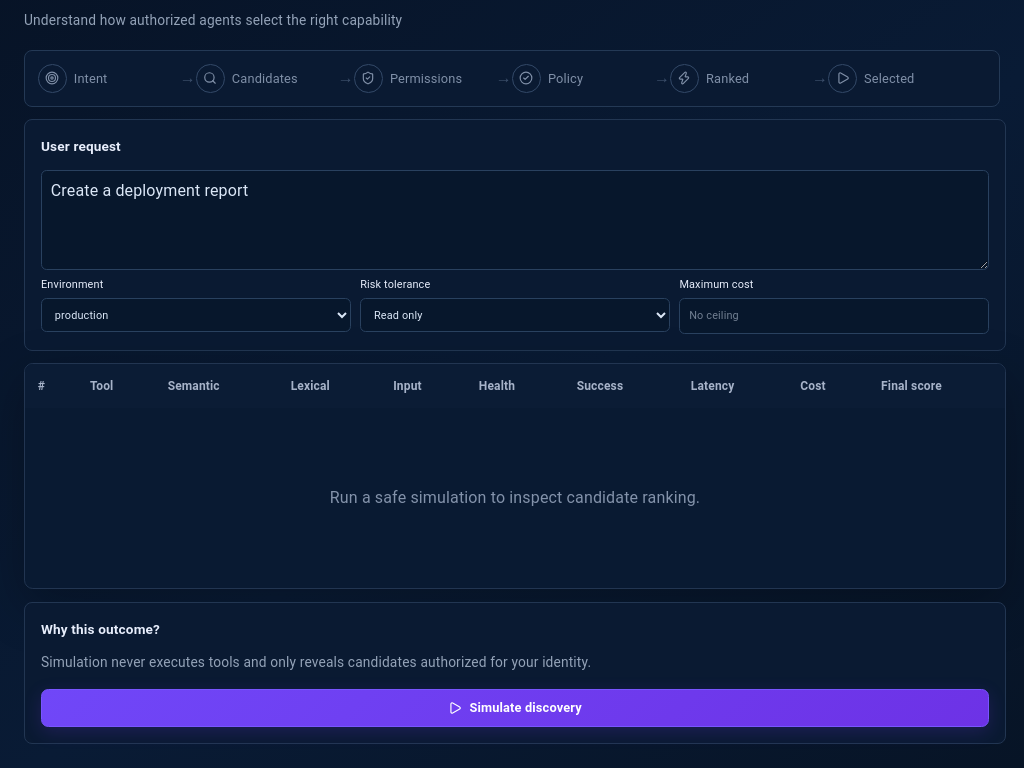
Test case: DiscoveryPage › shows safe no-match state
(page scrolled)
What coordinates should you click on to do the following:
click the button "Simulate discovery"
I would click on:
 (515, 708)
Its box is [41,689,989,727].
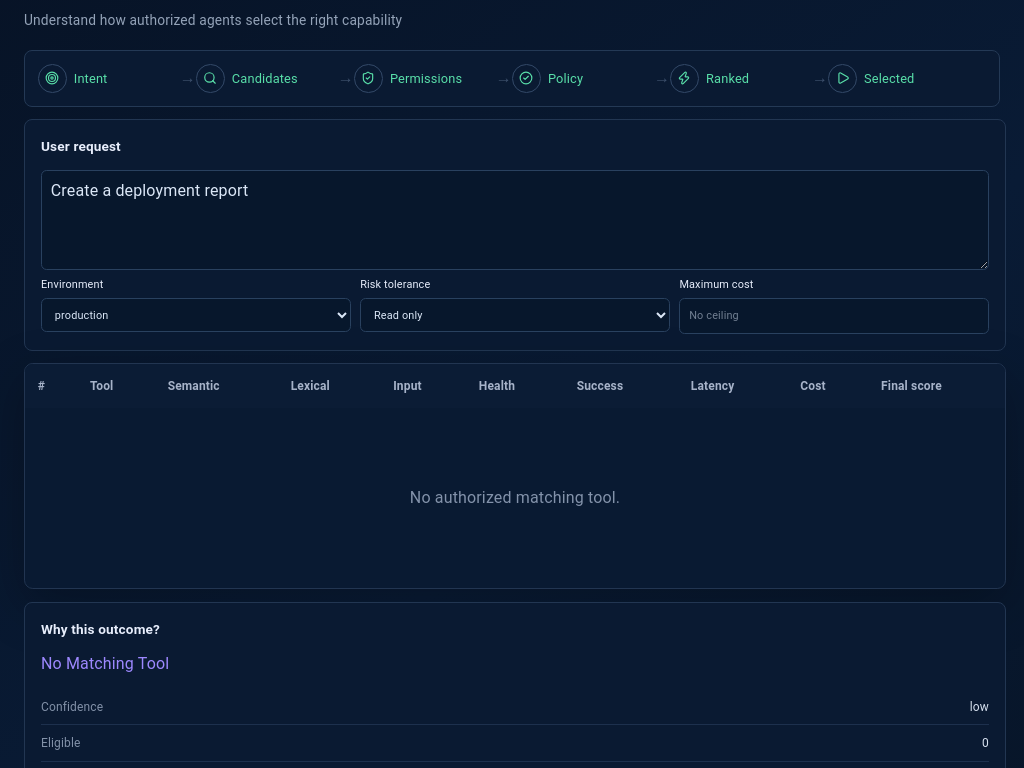
Check: the text "No authorized matching tool." is shown, box [410,488,620,507]
